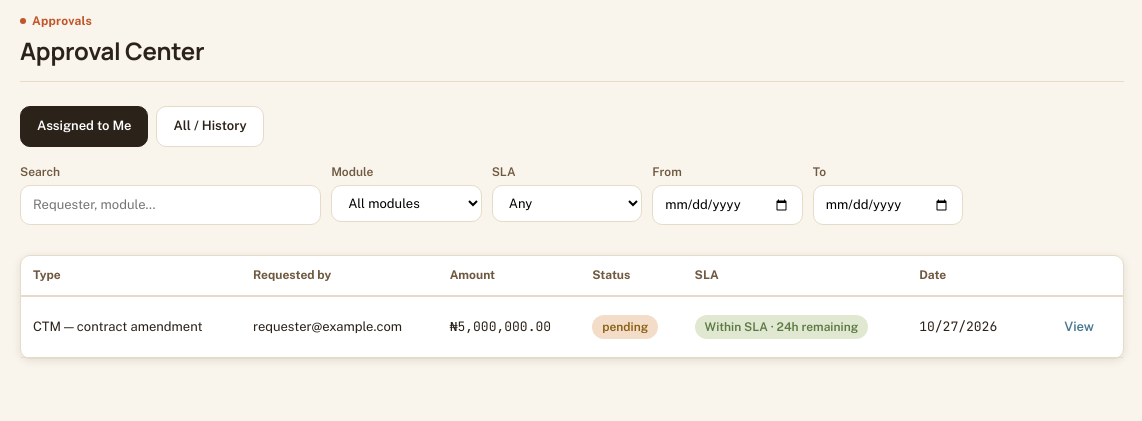
Test case: ApprovalCenterPage › filters client-side by search text
This screenshot has width=1142, height=421.
Expected: the text "requester@example.com" is shown, [241,296,438,358]
Step 1. Type "nothing matches this" into the field with placeholder "Requester, module…" → (171, 205), box [20,185,321,225]
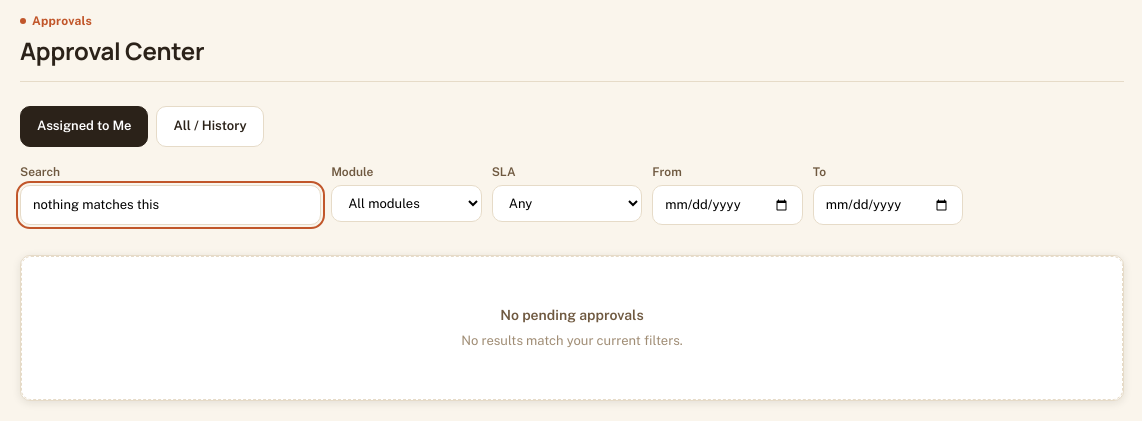
Expected: the text "requester@example.com" is gone
